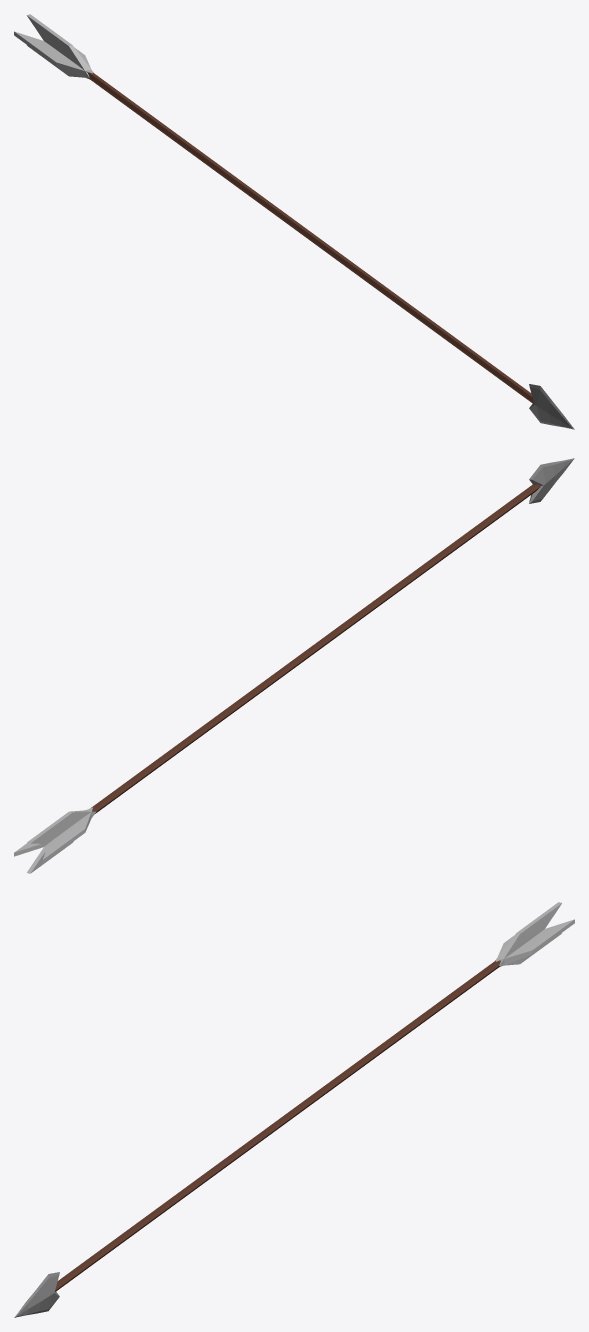
File: Arrow.fbx
3 views of the same model, one above another, from view 1: azimuth 30°, elevation 25°; view 2: azimuth 150°, elevation 25°; view 3: azimuth 330°, elevation 25° (orthographic).
Visible parts, largest first — view 1: Arrow; view 2: Arrow; view 3: Arrow.
Part boxes in pixels (left/top/right/bottom): Arrow: left=14, top=14, right=574, bottom=429; Arrow: left=14, top=458, right=574, bottom=873; Arrow: left=14, top=902, right=574, bottom=1317.
Bounding box in the file's own units: 61.2 × 75.26 × 2000.
